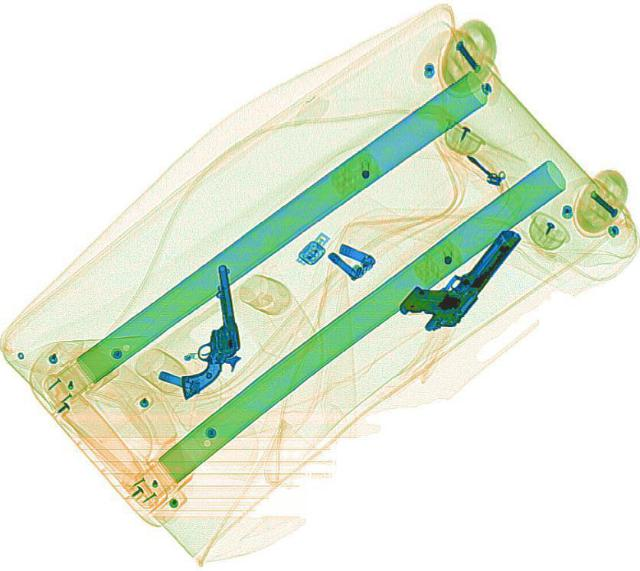Gun: (391, 209, 524, 340), (163, 263, 245, 398)
